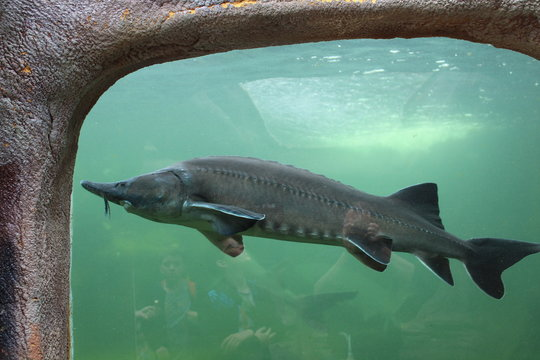Sturgeon: (78, 149, 540, 310)
